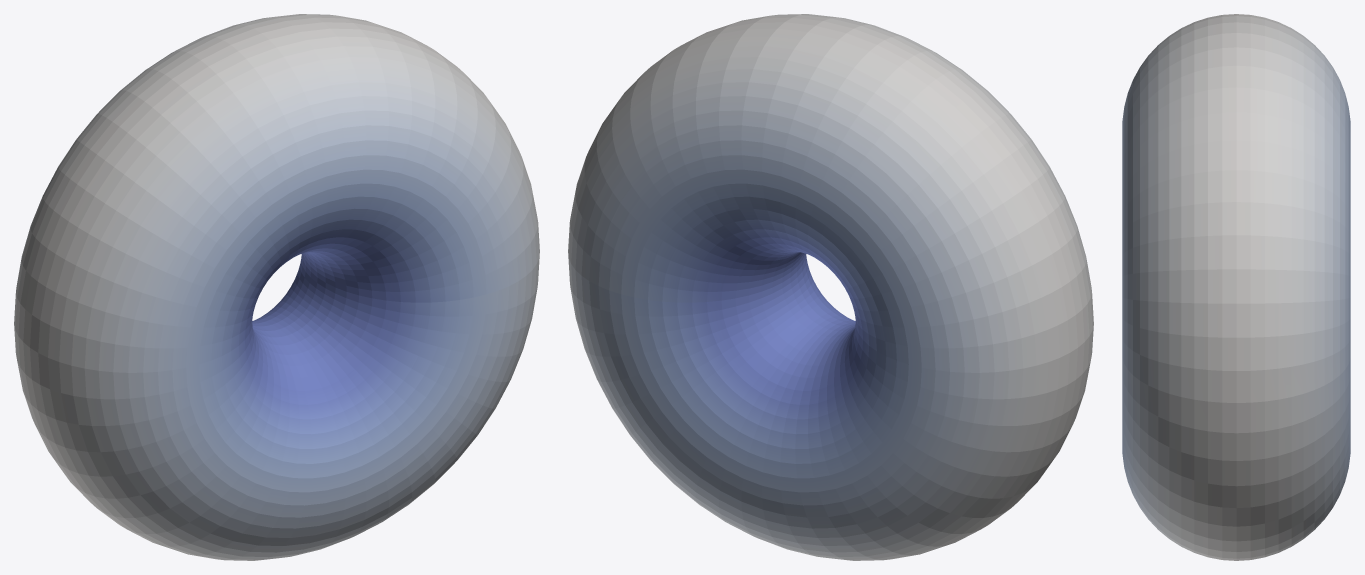
3 views of the same model, side by side, from view 1: azimuth 30°, elevation 25°; view 2: azimuth 150°, elevation 25°; view 3: azimuth 270°, elevation 25° (orthographic). The views are drawn at different scales.
Parts seen in each view (by area): view 1: world; view 2: world; view 3: world.
Boxes of the visible parts, x1,y1,x2,y2 form: world: (14,14,539,560); world: (568,14,1093,560); world: (1122,14,1350,560).
Bounding box in the file's own units: 19.47 × 19.43 × 8.12.
